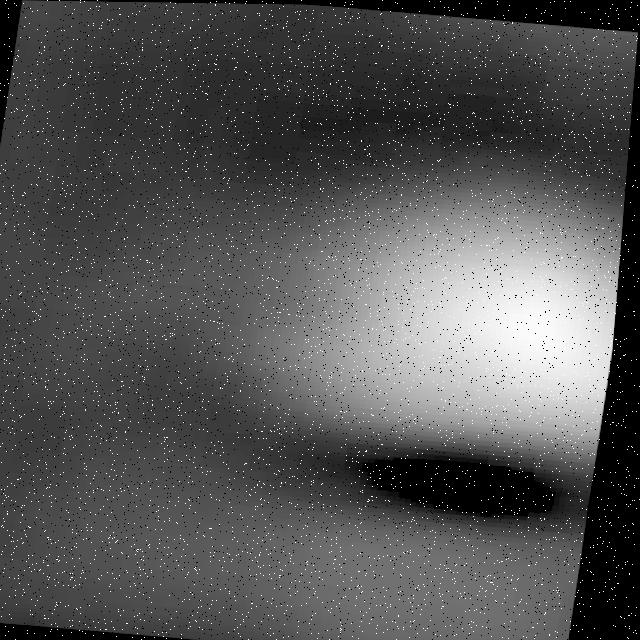person: (178, 187, 629, 457), (74, 472, 599, 640)
